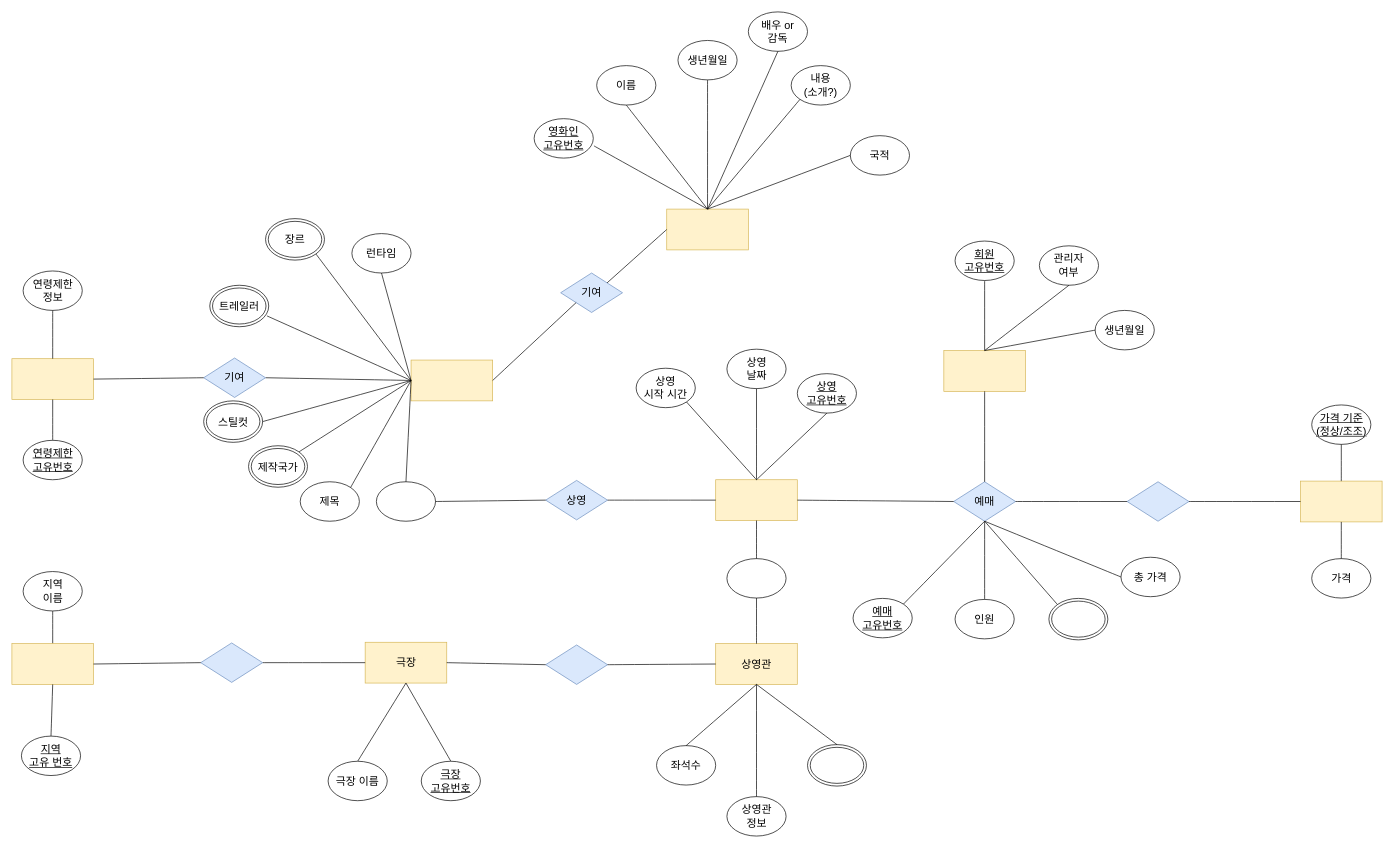
This 1394x848 diagram has some shape labels left out. Each missing label, with the box of its shape:
계산: (1126, 481, 1189, 521)
상영관 고유번호: (726, 558, 786, 598)
상영정보: (715, 479, 797, 521)
소속: (545, 644, 608, 684)
연령제한: (11, 358, 94, 400)
영화: (410, 359, 493, 401)
영화 고유번호: (376, 481, 436, 521)
영화인: (666, 208, 748, 250)
요금: (1300, 480, 1382, 522)
위치: (200, 642, 263, 682)
좌석 번호: (1048, 598, 1108, 640)
좌석 정보: (807, 744, 866, 786)
지역: (11, 643, 94, 684)
회원: (943, 350, 1025, 391)
